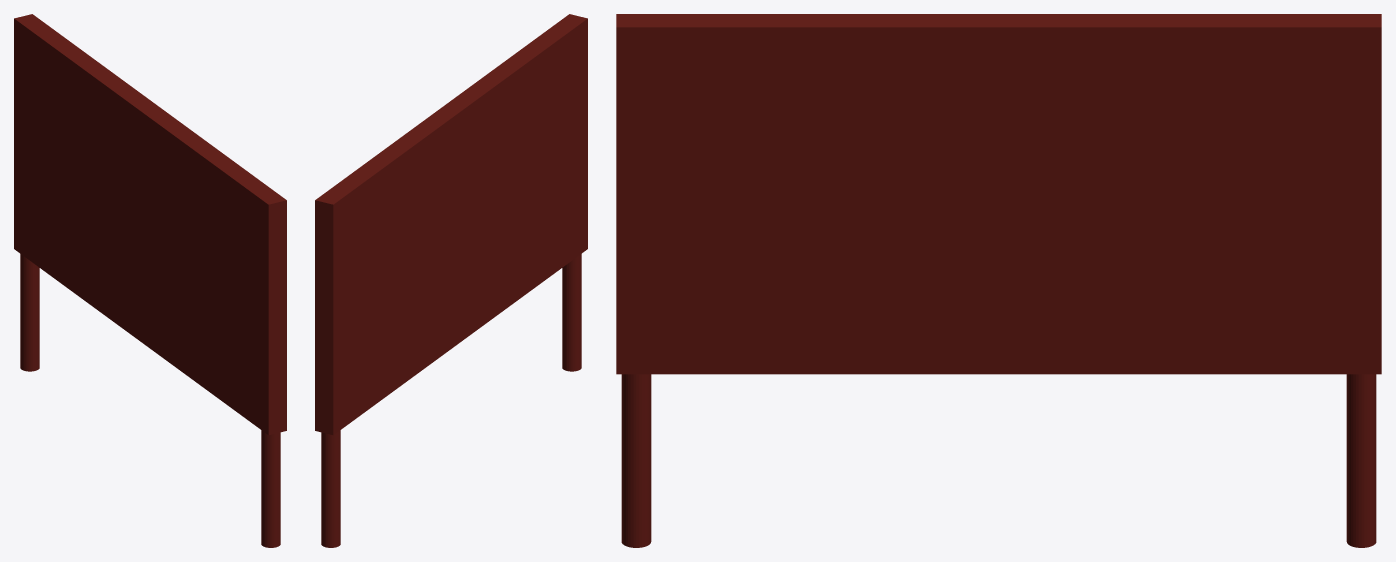
The model's file is letrero.fbx.
The picture shows the model from 3 angles, left to right: view 1: azimuth 30°, elevation 25°; view 2: azimuth 150°, elevation 25°; view 3: azimuth 270°, elevation 25°; orthographic projection. The views are drawn at different scales.
Parts seen in each view (by area): view 1: Letrero, Postes; view 2: Letrero, Postes; view 3: Letrero, Postes.
Part boxes in pixels (left/top/right/bottom): Letrero: left=14, top=14, right=286, bottom=435; Postes: left=20, top=254, right=280, bottom=547; Letrero: left=315, top=14, right=587, bottom=435; Postes: left=321, top=254, right=581, bottom=547; Letrero: left=616, top=14, right=1381, bottom=374; Postes: left=621, top=374, right=1376, bottom=547.
Size of the model in its own units: 50 by 901 by 1200.
